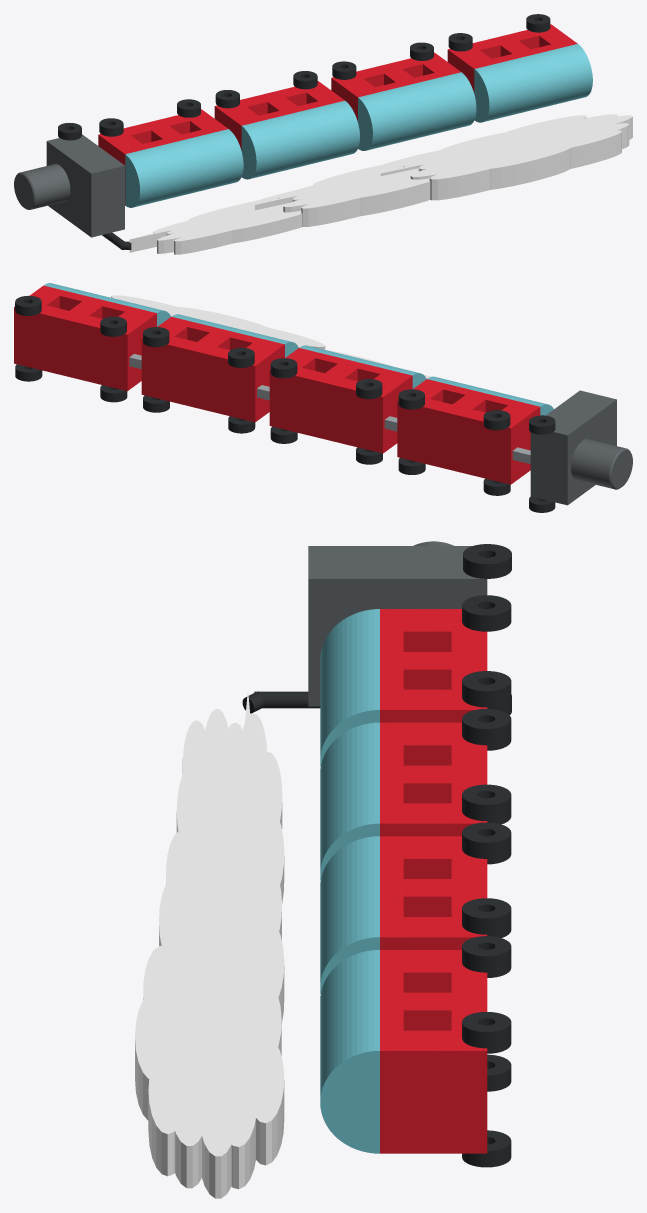
File: tinker.obj
3 views of the same model, one above another, from view 1: azimuth 30°, elevation 25°; view 2: azimuth 150°, elevation 25°; view 3: azimuth 270°, elevation 25° (orthographic). The views are drawn at different scales.
Parts seen in each view (by area): view 1: group_0_7720667, group_0_16448250, group_0_15277357, group_0_6383466, group_0_2829873; view 2: group_0_15277357, group_0_6383466, group_0_2829873, group_0_7720667, group_0_16448250, group_0_10988977; view 3: group_0_16448250, group_0_15277357, group_0_7720667, group_0_2829873, group_0_6383466.
Boxes of the visible parts, x1,y1,x2,y2 form: group_0_7720667: [125, 44, 592, 207]; group_0_16448250: [129, 114, 632, 254]; group_0_15277357: [98, 24, 577, 205]; group_0_6383466: [14, 134, 124, 237]; group_0_2829873: [58, 14, 550, 250]; group_0_15277357: [14, 285, 540, 484]; group_0_6383466: [530, 390, 632, 505]; group_0_2829873: [15, 295, 555, 512]; group_0_7720667: [44, 283, 553, 415]; group_0_16448250: [111, 295, 430, 378]; group_0_10988977: [129, 354, 530, 463]; group_0_16448250: [135, 691, 284, 1198]; group_0_15277357: [380, 609, 487, 1153]; group_0_7720667: [320, 609, 379, 1153]; group_0_2829873: [242, 544, 511, 1167]; group_0_6383466: [308, 541, 487, 706].
Bounding box in the file's own units: 214 × 29.94 × 63.11.
